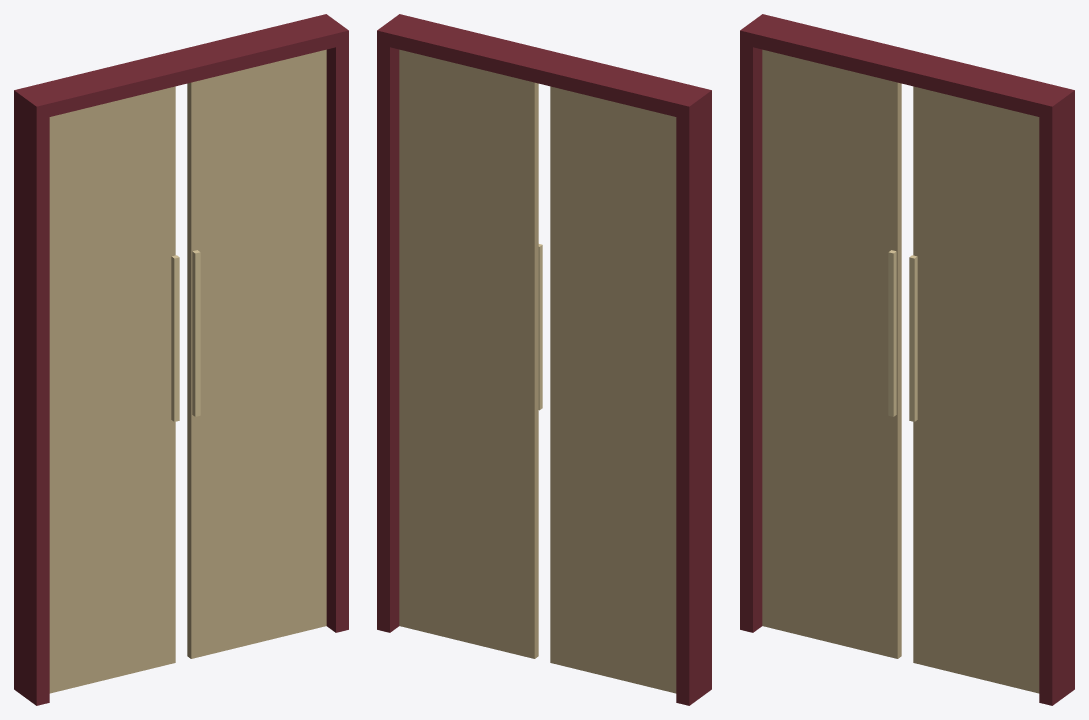
Rendered from porta_principal_120.glb.
3 views of the same model, side by side, from view 1: azimuth 30°, elevation 25°; view 2: azimuth 150°, elevation 25°; view 3: azimuth 330°, elevation 25° (orthographic).
Visible parts, largest first — view 1: porta_principal_120; view 2: porta_principal_120; view 3: porta_principal_120.
Part boxes in pixels (x1,y1,x2,y2): porta_principal_120: (14, 14, 348, 705); porta_principal_120: (377, 14, 711, 705); porta_principal_120: (740, 14, 1074, 705).
Bounding box in the file's own units: 1.2 × 2.2 × 0.15.
